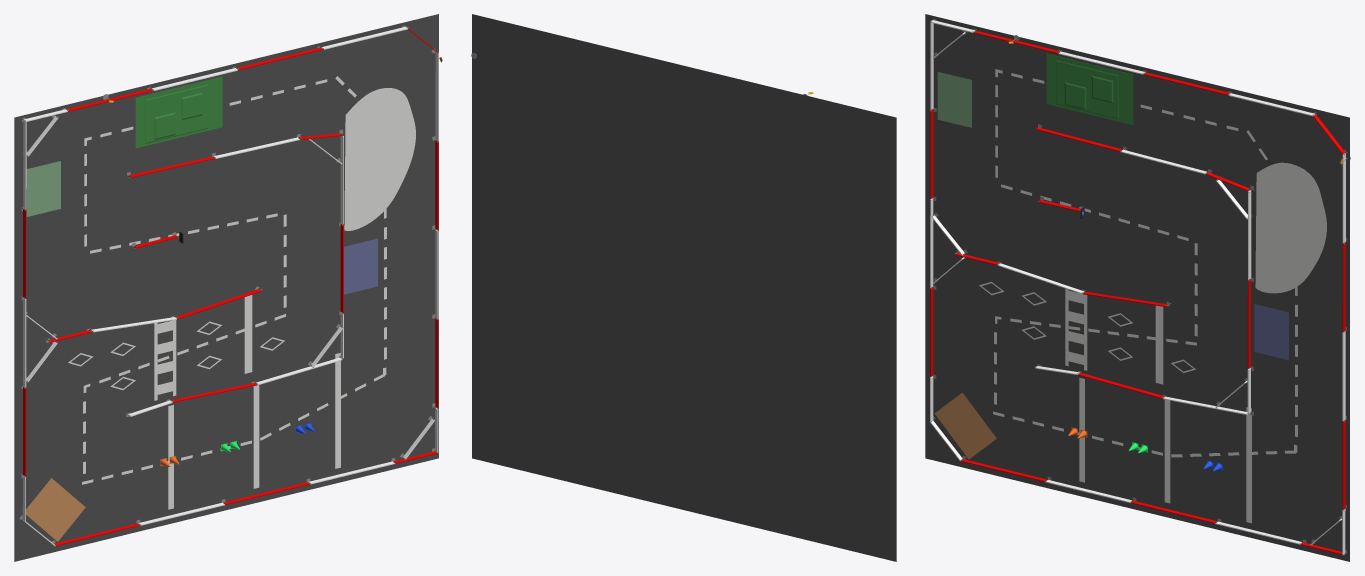
File: course2.fbx
The picture shows the model from 3 angles, left to right: view 1: azimuth 30°, elevation 25°; view 2: azimuth 150°, elevation 25°; view 3: azimuth 330°, elevation 25°; orthographic projection.
Visible parts, largest first — view 1: Carpet, SlipZone, body, Park1, Park2, Park3, SideWalk, Start2, WhiteLine, Start1, Start3; view 2: Carpet; view 3: Carpet, SlipZone, body, Park1, Park2, Park3, SideWalk, Start2, WhiteLine, Start1, Start3.
Part boxes in pixels (box(x1,y1,x2,y2)): Carpet: box(14, 14, 438, 561); SlipZone: box(344, 88, 415, 230); body: box(135, 76, 222, 148); Park1: box(26, 478, 85, 541); Park2: box(26, 161, 60, 216); Park3: box(344, 238, 377, 294); SideWalk: box(154, 320, 176, 400); Start2: box(253, 384, 259, 488); WhiteLine: box(244, 295, 252, 373); Start1: box(335, 353, 340, 468); Start3: box(168, 405, 173, 509); Carpet: box(472, 14, 896, 561); Carpet: box(925, 14, 1349, 561); SlipZone: box(1255, 162, 1326, 293); body: box(1046, 53, 1133, 124); Park1: box(935, 392, 996, 459); Park2: box(937, 72, 971, 127); Park3: box(1254, 304, 1288, 360); SideWalk: box(1065, 288, 1087, 370); Start2: box(1164, 399, 1170, 503); WhiteLine: box(1155, 305, 1163, 384); Start1: box(1246, 407, 1251, 523); Start3: box(1079, 378, 1084, 482).
Bounding box in the file's own units: 9105 × 9124 × 290.
